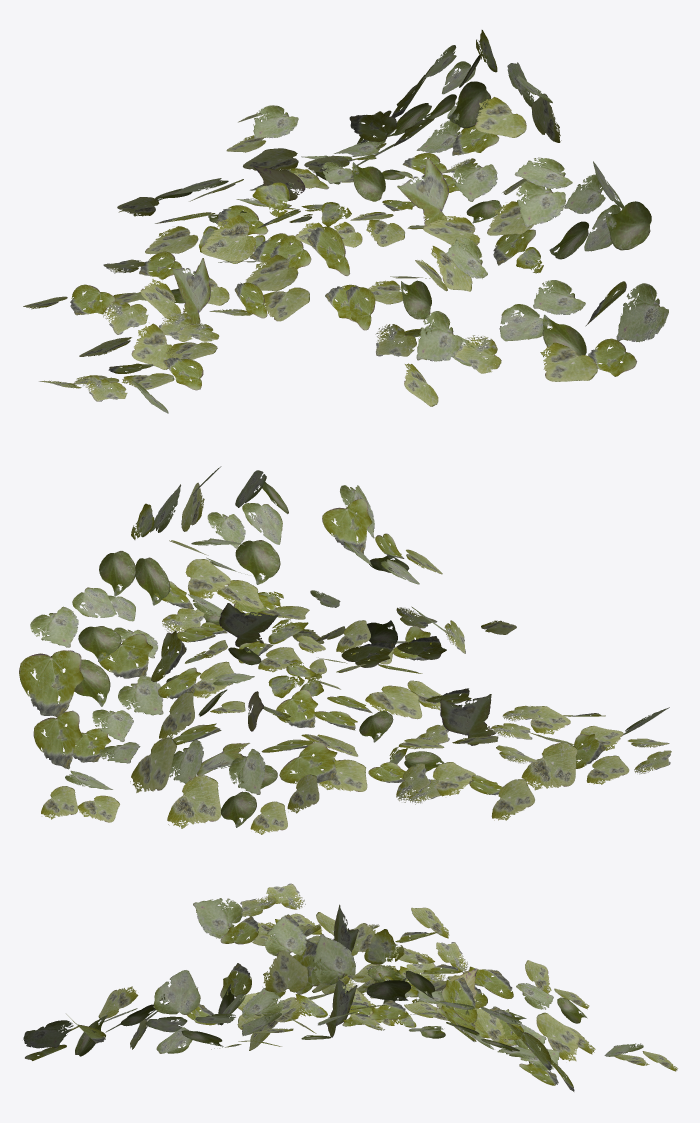
Rendered from SM_Plant_Ivy_07.fbx.
The picture shows the model from 3 angles, top to bottom: view 1: azimuth 30°, elevation 25°; view 2: azimuth 150°, elevation 25°; view 3: azimuth 270°, elevation 25°; orthographic projection. The views are drawn at different scales.
Visible parts, largest first — view 1: SM_Plant_Ivy_07; view 2: SM_Plant_Ivy_07; view 3: SM_Plant_Ivy_07.
Boxes of the visible parts, x1,y1,x2,y2 form: SM_Plant_Ivy_07: [23, 30, 668, 413]; SM_Plant_Ivy_07: [19, 466, 671, 834]; SM_Plant_Ivy_07: [23, 883, 677, 1091].
Bounding box in the file's own units: 150 × 179 × 60.74.
1 material, 1 textured.
